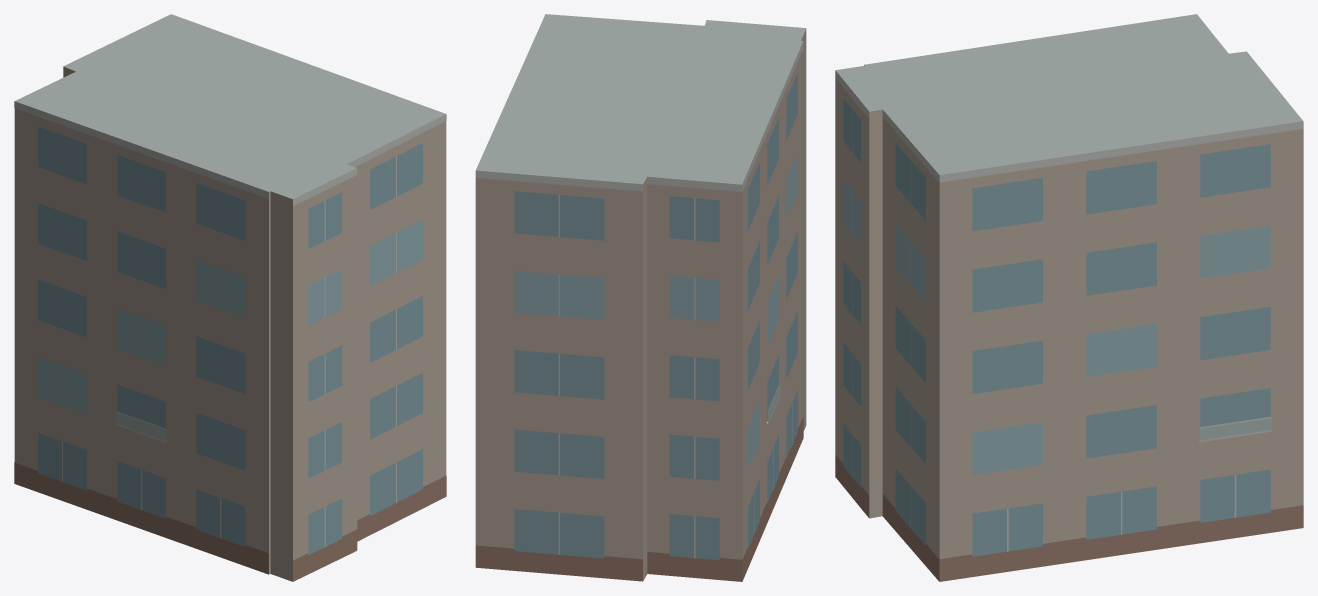
The model's file is survey-upis-32899859.glb.
The picture shows the model from 3 angles, left to right: view 1: azimuth 30°, elevation 25°; view 2: azimuth 150°, elevation 25°; view 3: azimuth 270°, elevation 25°; orthographic projection. The views are drawn at different scales.
Visible parts, largest first — view 1: survey-upis-32899859.tmp; view 2: survey-upis-32899859.tmp; view 3: survey-upis-32899859.tmp.
Part boxes in pixels (x1=…): survey-upis-32899859.tmp: x1=14, y1=14, x2=446, y2=581; survey-upis-32899859.tmp: x1=475, y1=14, x2=806, y2=581; survey-upis-32899859.tmp: x1=835, y1=14, x2=1303, y2=581.
Size of the model in its own units: 11.31 by 13.3 by 13.88.
